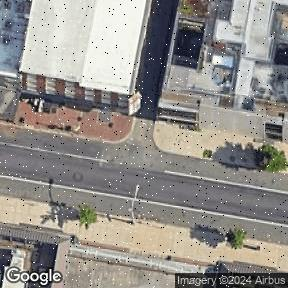vegetation: (224, 224, 251, 251), (79, 207, 98, 229)
